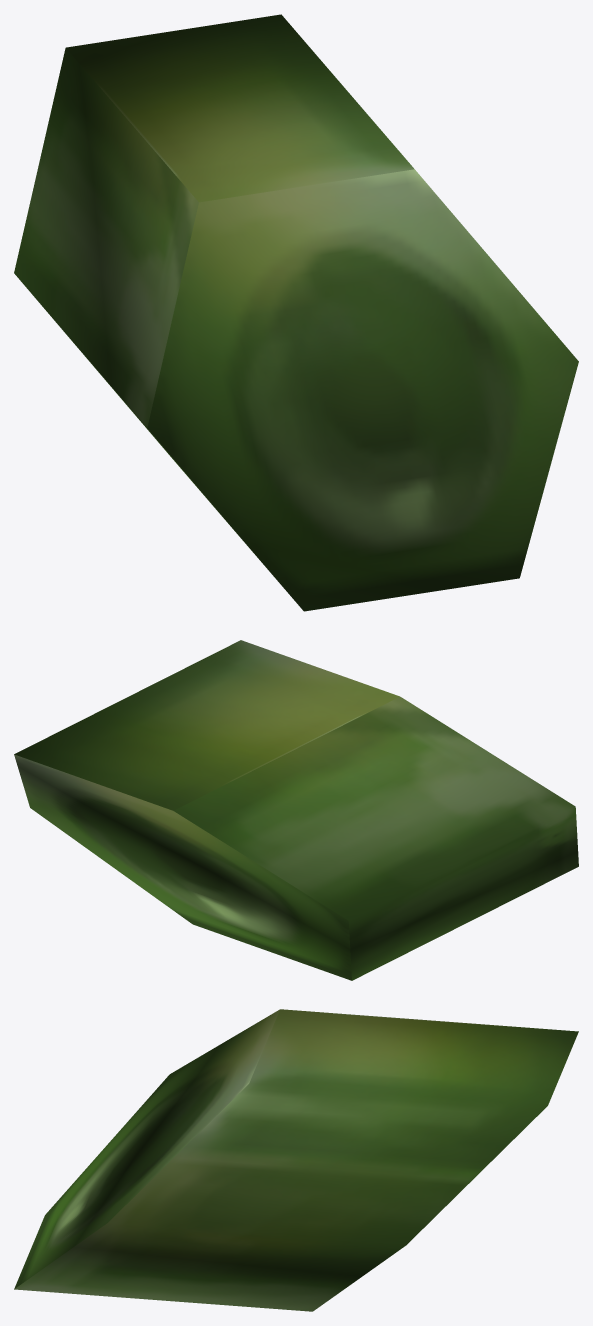
File: Ramen_GreenOnion_03_Free.FBX
3 views of the same model, one above another, from view 1: azimuth 30°, elevation 25°; view 2: azimuth 150°, elevation 25°; view 3: azimuth 270°, elevation 25° (orthographic). The views are drawn at different scales.
Visible parts, largest first — view 1: Ramen_GreenOnion_03_Free; view 2: Ramen_GreenOnion_03_Free; view 3: Ramen_GreenOnion_03_Free.
Boxes of the visible parts, left/top/right/bottom form: Ramen_GreenOnion_03_Free: left=14, top=14, right=578, bottom=611; Ramen_GreenOnion_03_Free: left=14, top=640, right=578, bottom=980; Ramen_GreenOnion_03_Free: left=14, top=1009, right=578, bottom=1311.
Bounding box in the file's own units: 6.45 × 3.93 × 9.01.
